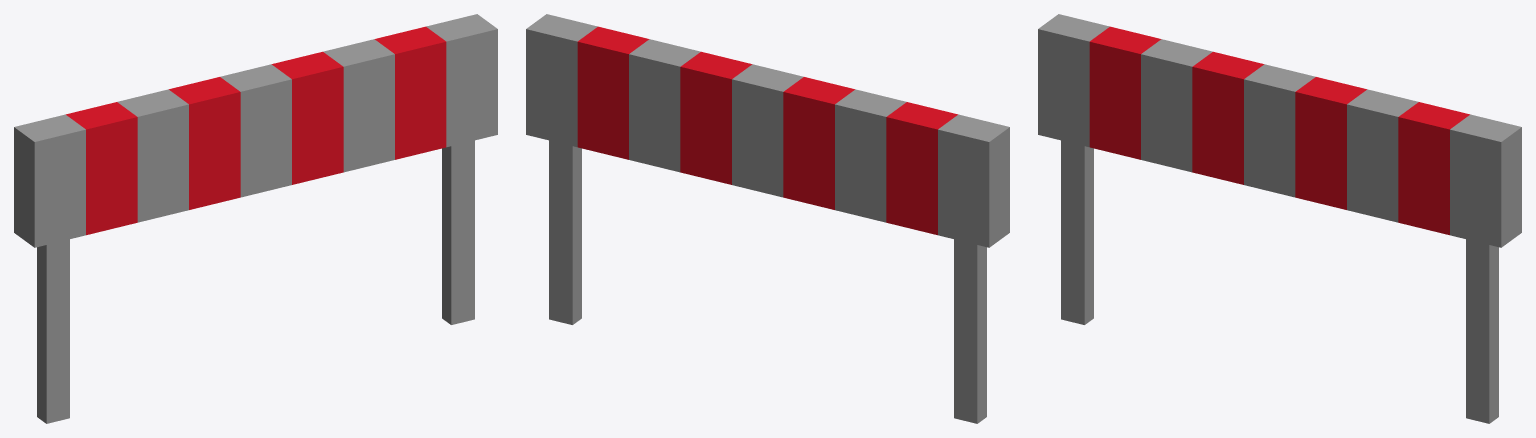
The picture shows the model from 3 angles, left to right: view 1: azimuth 30°, elevation 25°; view 2: azimuth 150°, elevation 25°; view 3: azimuth 330°, elevation 25°; orthographic projection.
Visible parts, largest first — view 1: Cube; view 2: Cube; view 3: Cube.
Boxes of the visible parts, left/top/right/bottom form: Cube: left=14, top=14, right=497, bottom=423; Cube: left=526, top=14, right=1009, bottom=423; Cube: left=1038, top=14, right=1521, bottom=423.
Bounding box in the file's own units: 800 × 479 × 61.63.
